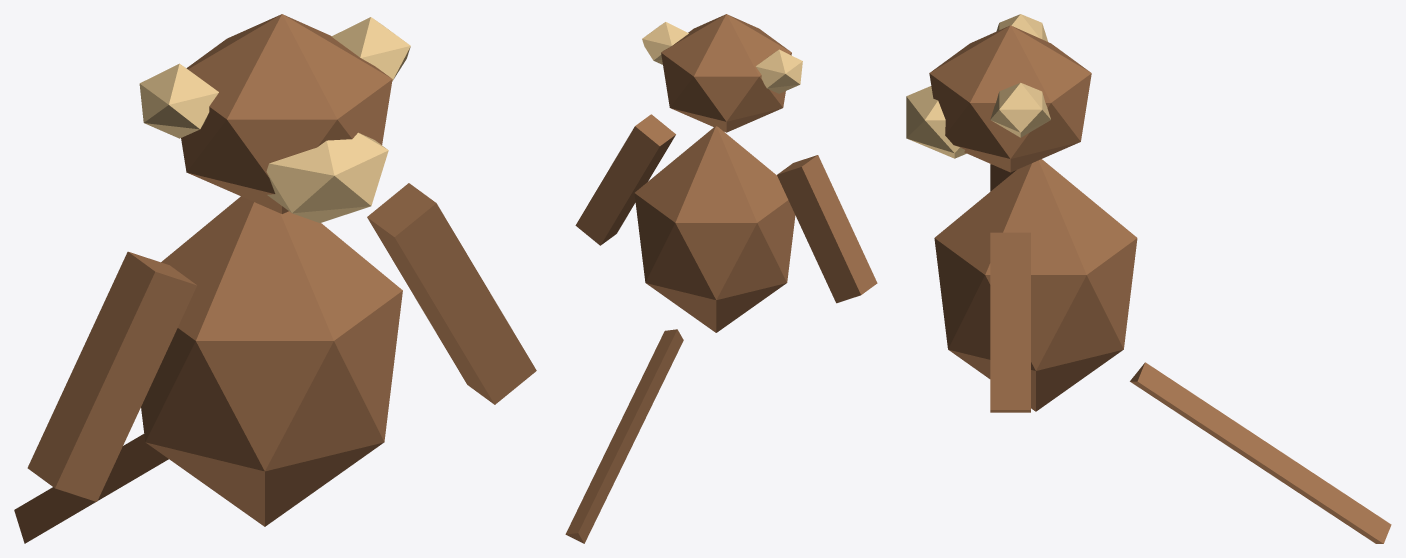
The model's file is animal_monkey.glb.
The picture shows the model from 3 angles, left to right: view 1: azimuth 30°, elevation 25°; view 2: azimuth 150°, elevation 25°; view 3: azimuth 270°, elevation 25°; orthographic projection. The views are drawn at different scales.
Visible parts, largest first — view 1: animal_monkey; view 2: animal_monkey; view 3: animal_monkey.
Part boxes in pixels (x1,y1,x2,y2): animal_monkey: (14, 14, 536, 543); animal_monkey: (565, 14, 877, 543); animal_monkey: (906, 14, 1391, 543).
Size of the model in its own units: 0.0806 by 0.1134 by 0.0955.
